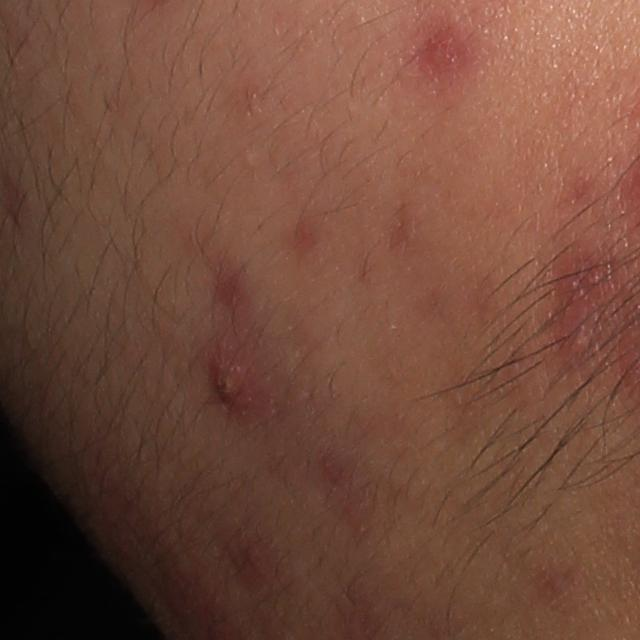papule: (201, 347, 254, 412), (417, 23, 467, 76)
